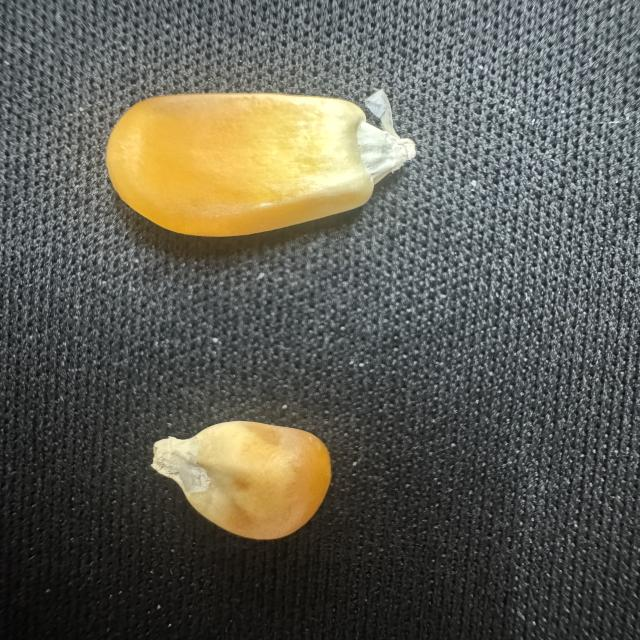Bad-Seed: (134, 410, 338, 541)
Good-Seed: (90, 72, 442, 253)
